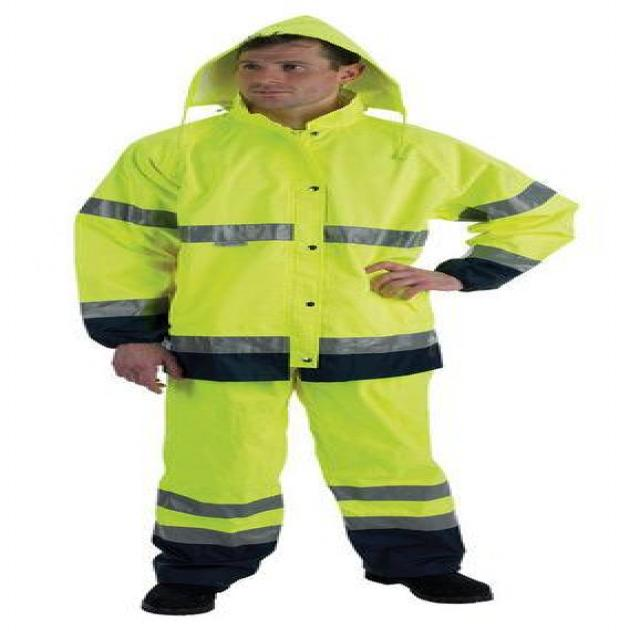Reflective-Jacket: (58, 112, 562, 367)
